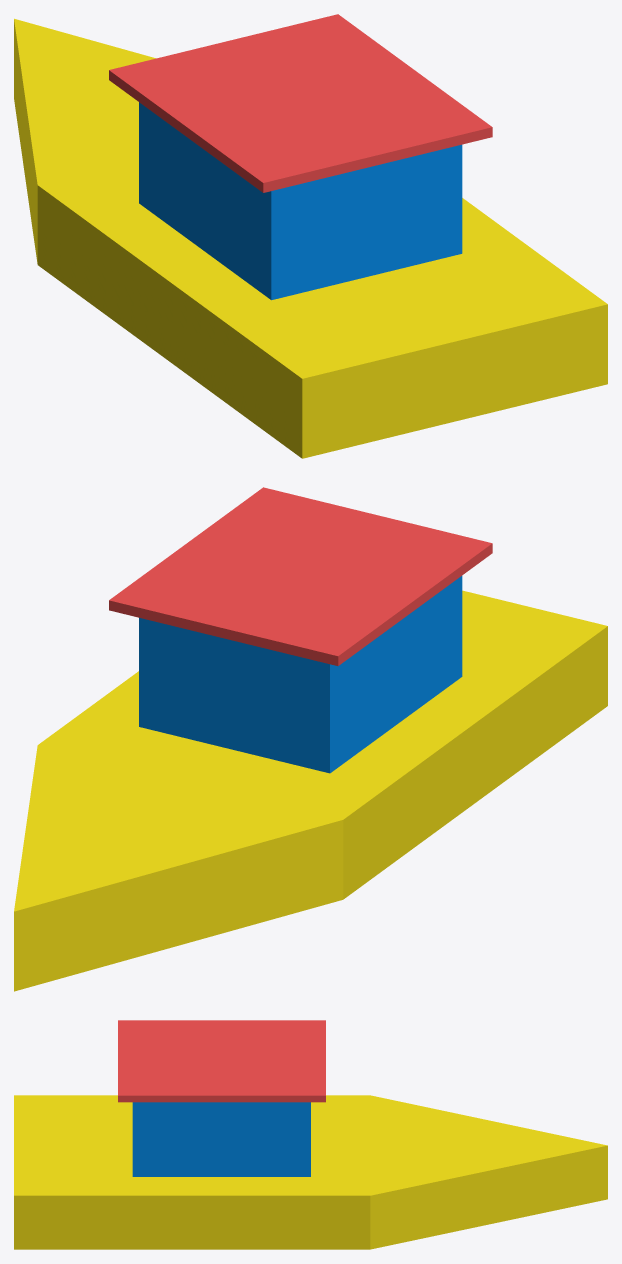
File: boat_4.glb
3 renders of one model, top to bottom at view 1: azimuth 30°, elevation 25°; view 2: azimuth 150°, elevation 25°; view 3: azimuth 270°, elevation 25°, orthographic. The views are drawn at different scales.
Size of the model in its own units: 1.6 by 1.05 by 4.
